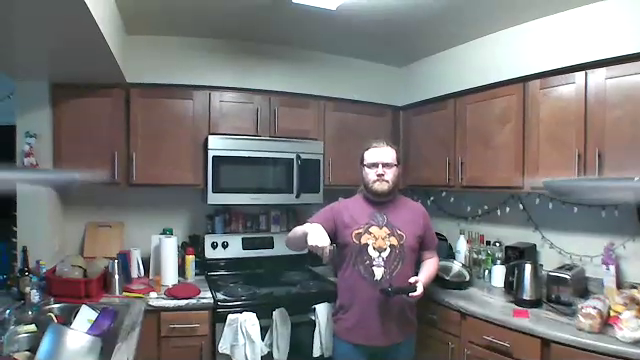down: (305, 222, 333, 269)
